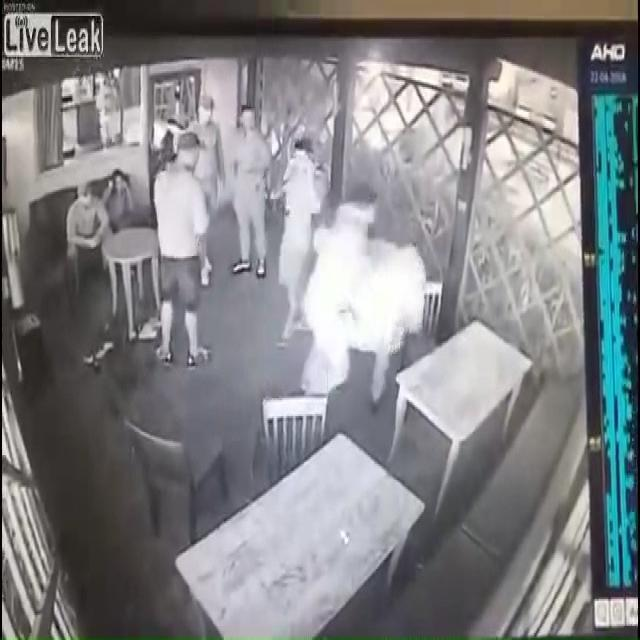fight: (303, 189, 436, 415)
